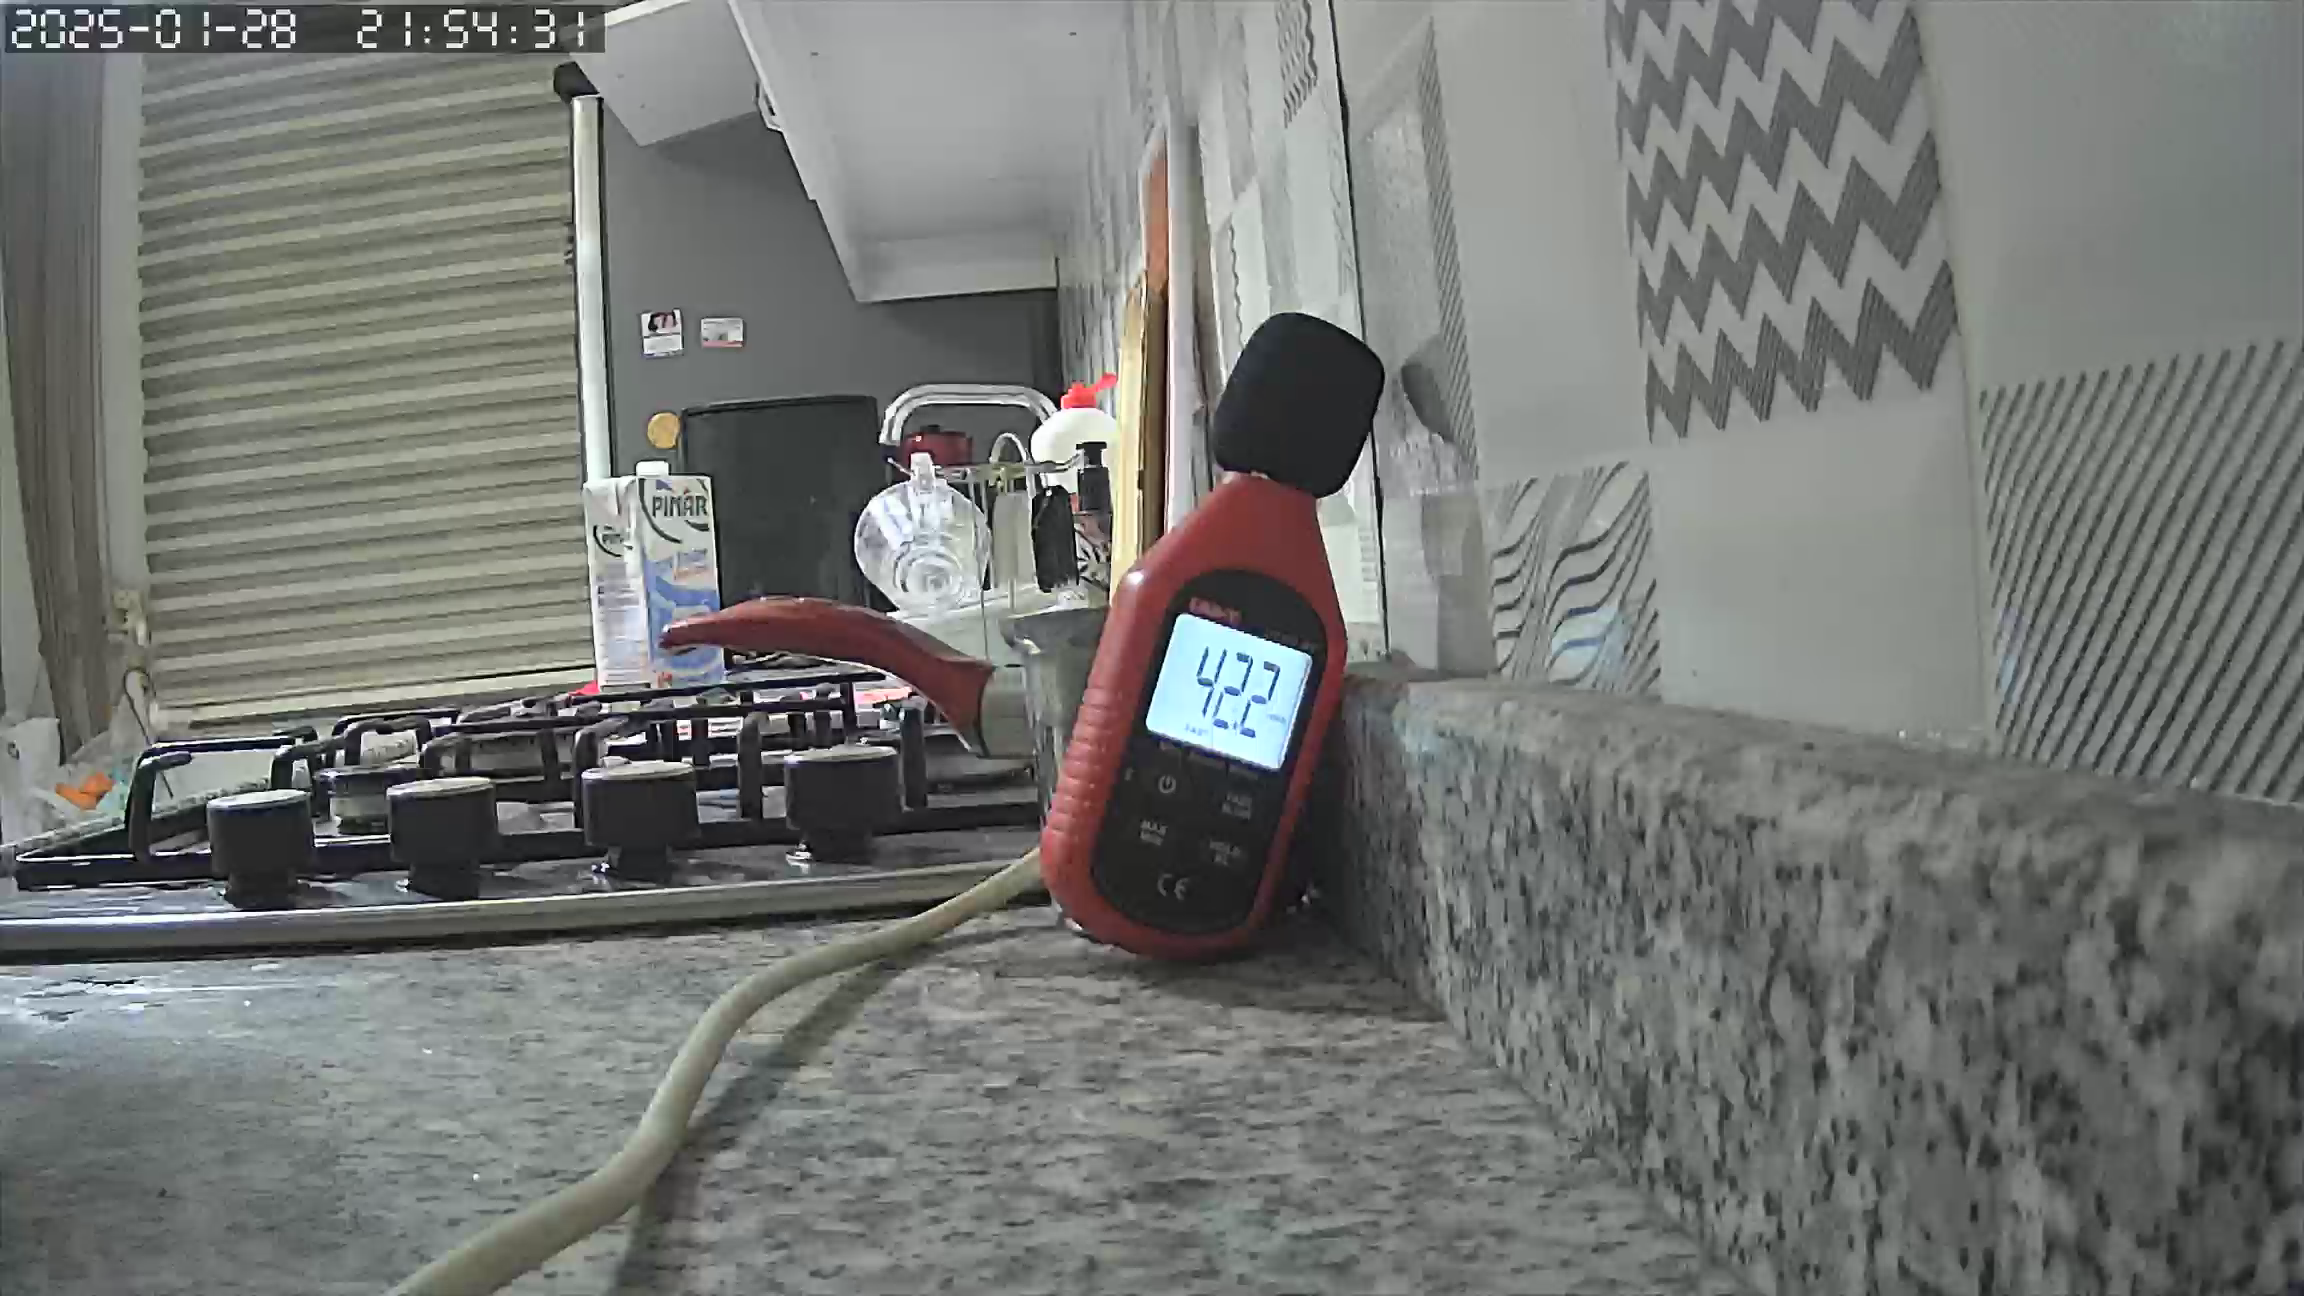screen: (1146, 614, 1310, 779)
